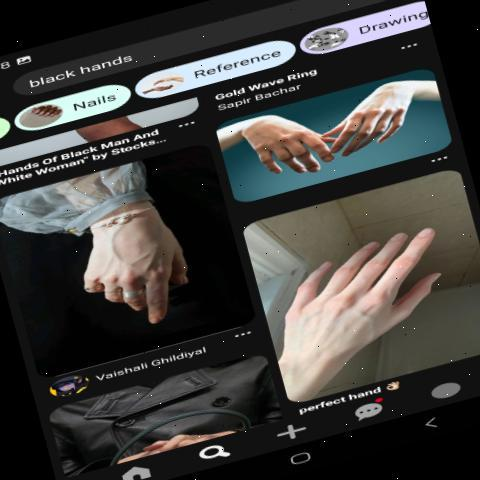Hands: (274, 215, 468, 373), (79, 216, 210, 329), (236, 106, 336, 196), (336, 90, 434, 164)
